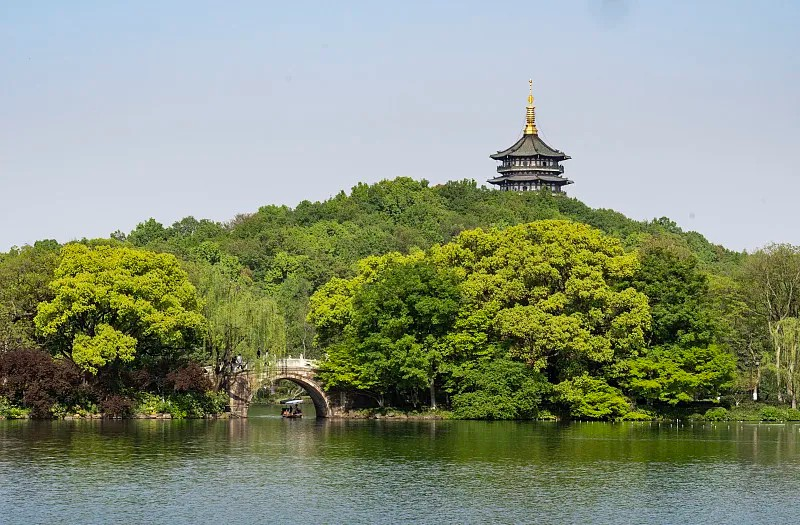Leifeng: (487, 74, 576, 196)
